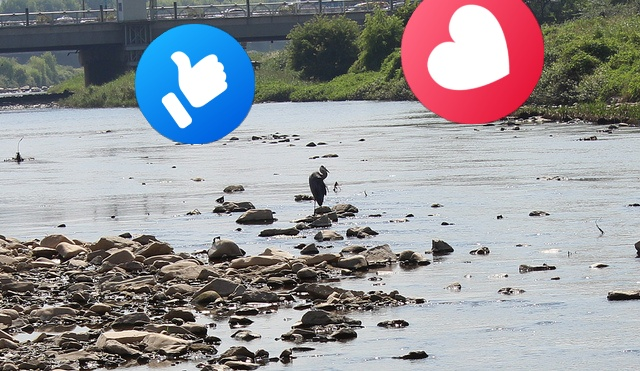like: (135, 24, 255, 144)
love: (401, 0, 544, 124)
